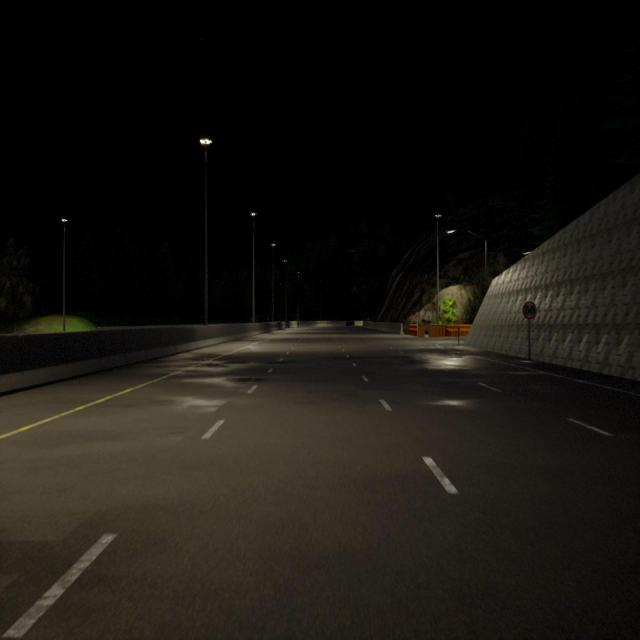Traffic_Signs: (523, 301, 536, 319), (415, 312, 420, 320)
Vehicle: (346, 319, 354, 326)
